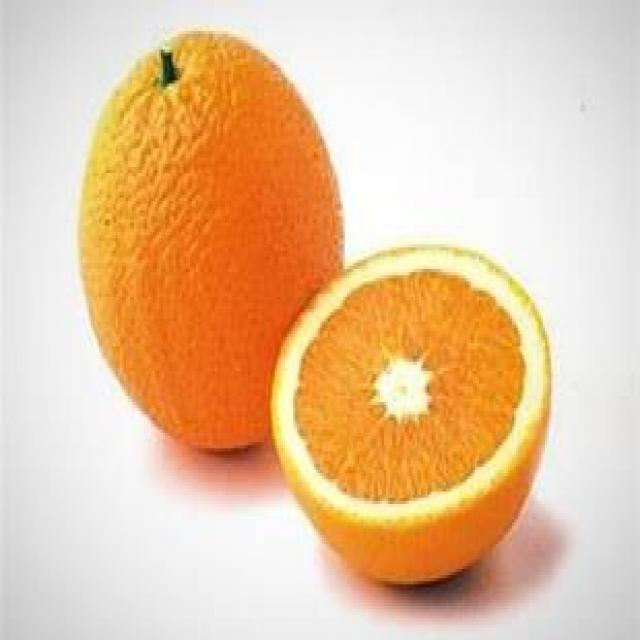orange: (74, 28, 345, 451), (271, 241, 554, 588)
